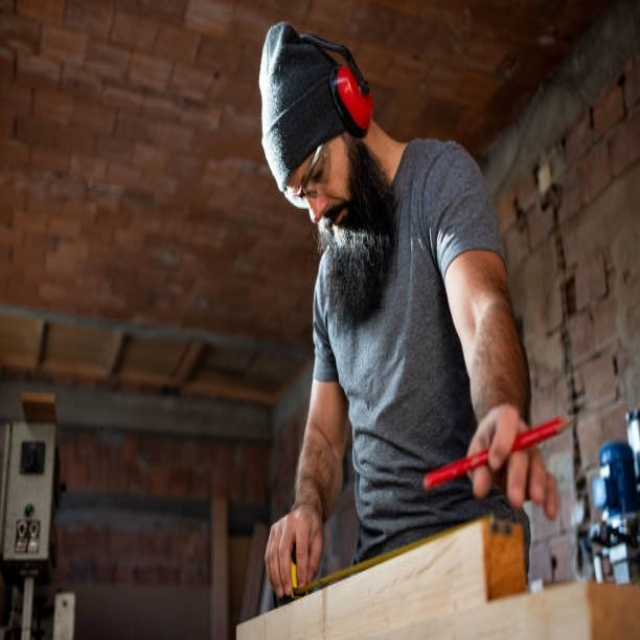Gafas: (285, 138, 334, 218)
Sin_guantes: (463, 403, 551, 510), (263, 501, 324, 600)
Sin_mascara: (313, 182, 355, 251)
